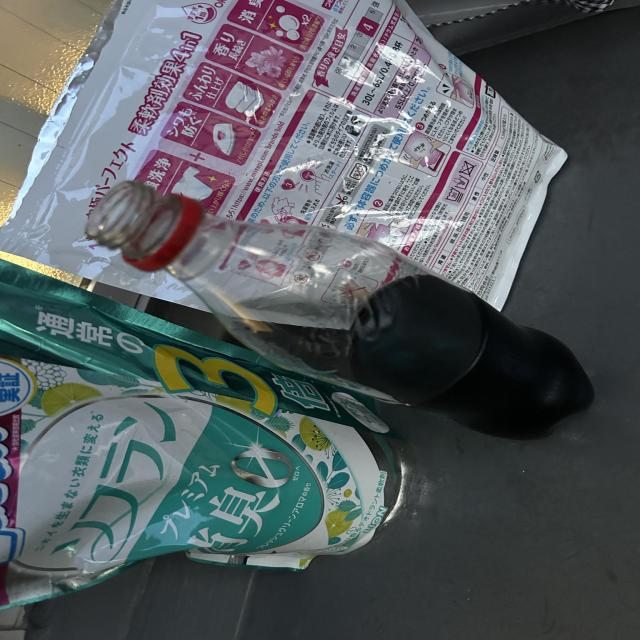medium: (86, 181, 584, 427)
